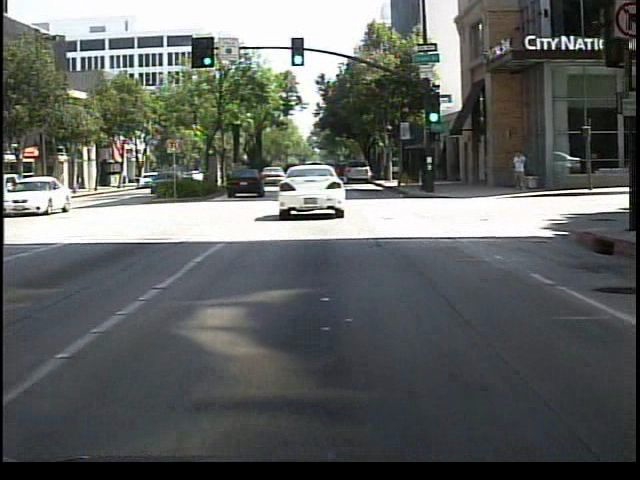person: (510, 150, 530, 197)
